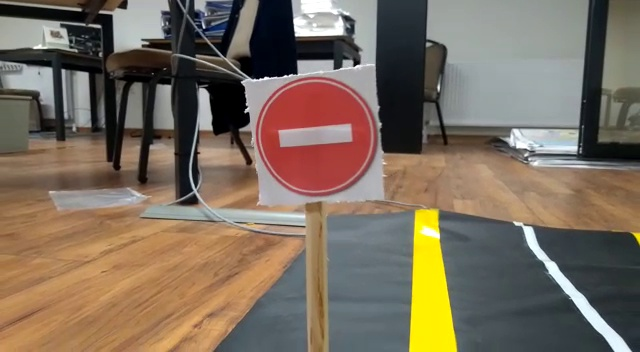girisi_olmayan_yol: (247, 78, 377, 196)
